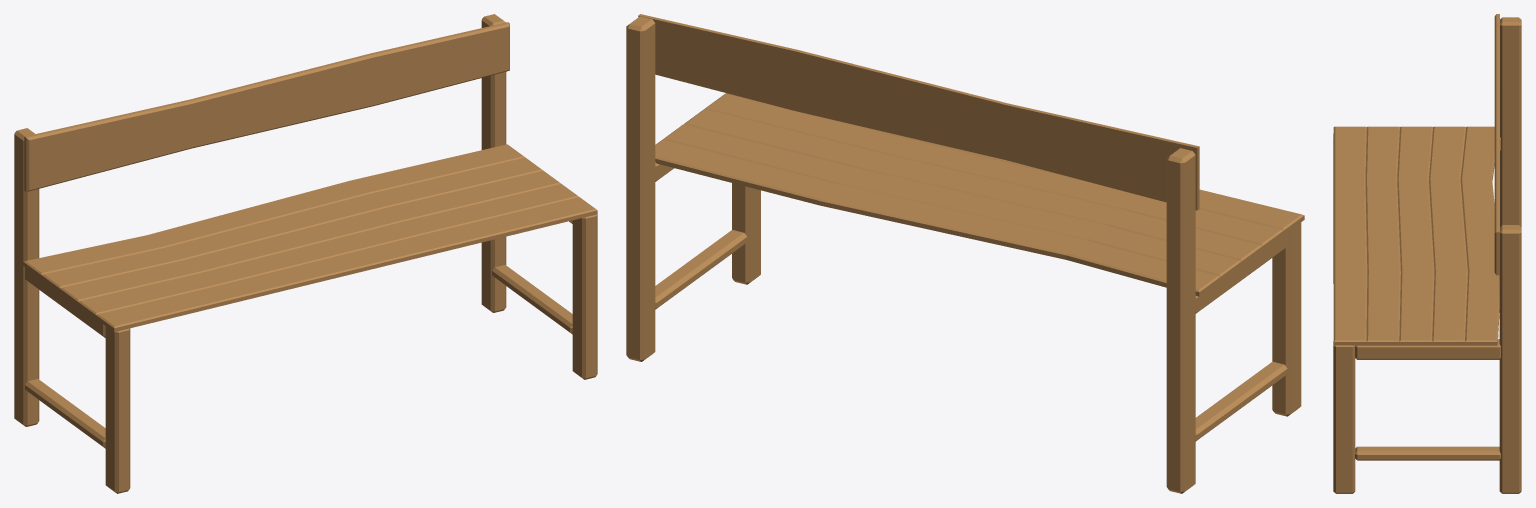
File: bench_d.gltf
3 renders of one model, left to right at view 1: azimuth 30°, elevation 25°; view 2: azimuth 150°, elevation 25°; view 3: azimuth 270°, elevation 25°, orthographic. The views are drawn at different scales.
Parts seen in each view (by area): view 1: bench_d001; view 2: bench_d001; view 3: bench_d001.
Boxes of the visible parts, box(x1,y1,x2,y2) form: bench_d001: box(14, 14, 597, 493); bench_d001: box(626, 14, 1304, 493); bench_d001: box(1333, 14, 1521, 493).
Size of the model in its own units: 1.38 by 0.7921 by 0.5083.
1 material, 1 textured.
